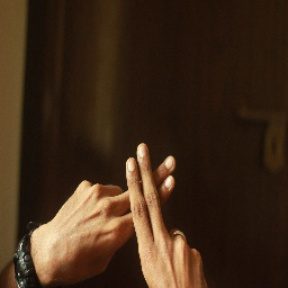F: (87, 131, 194, 273)
